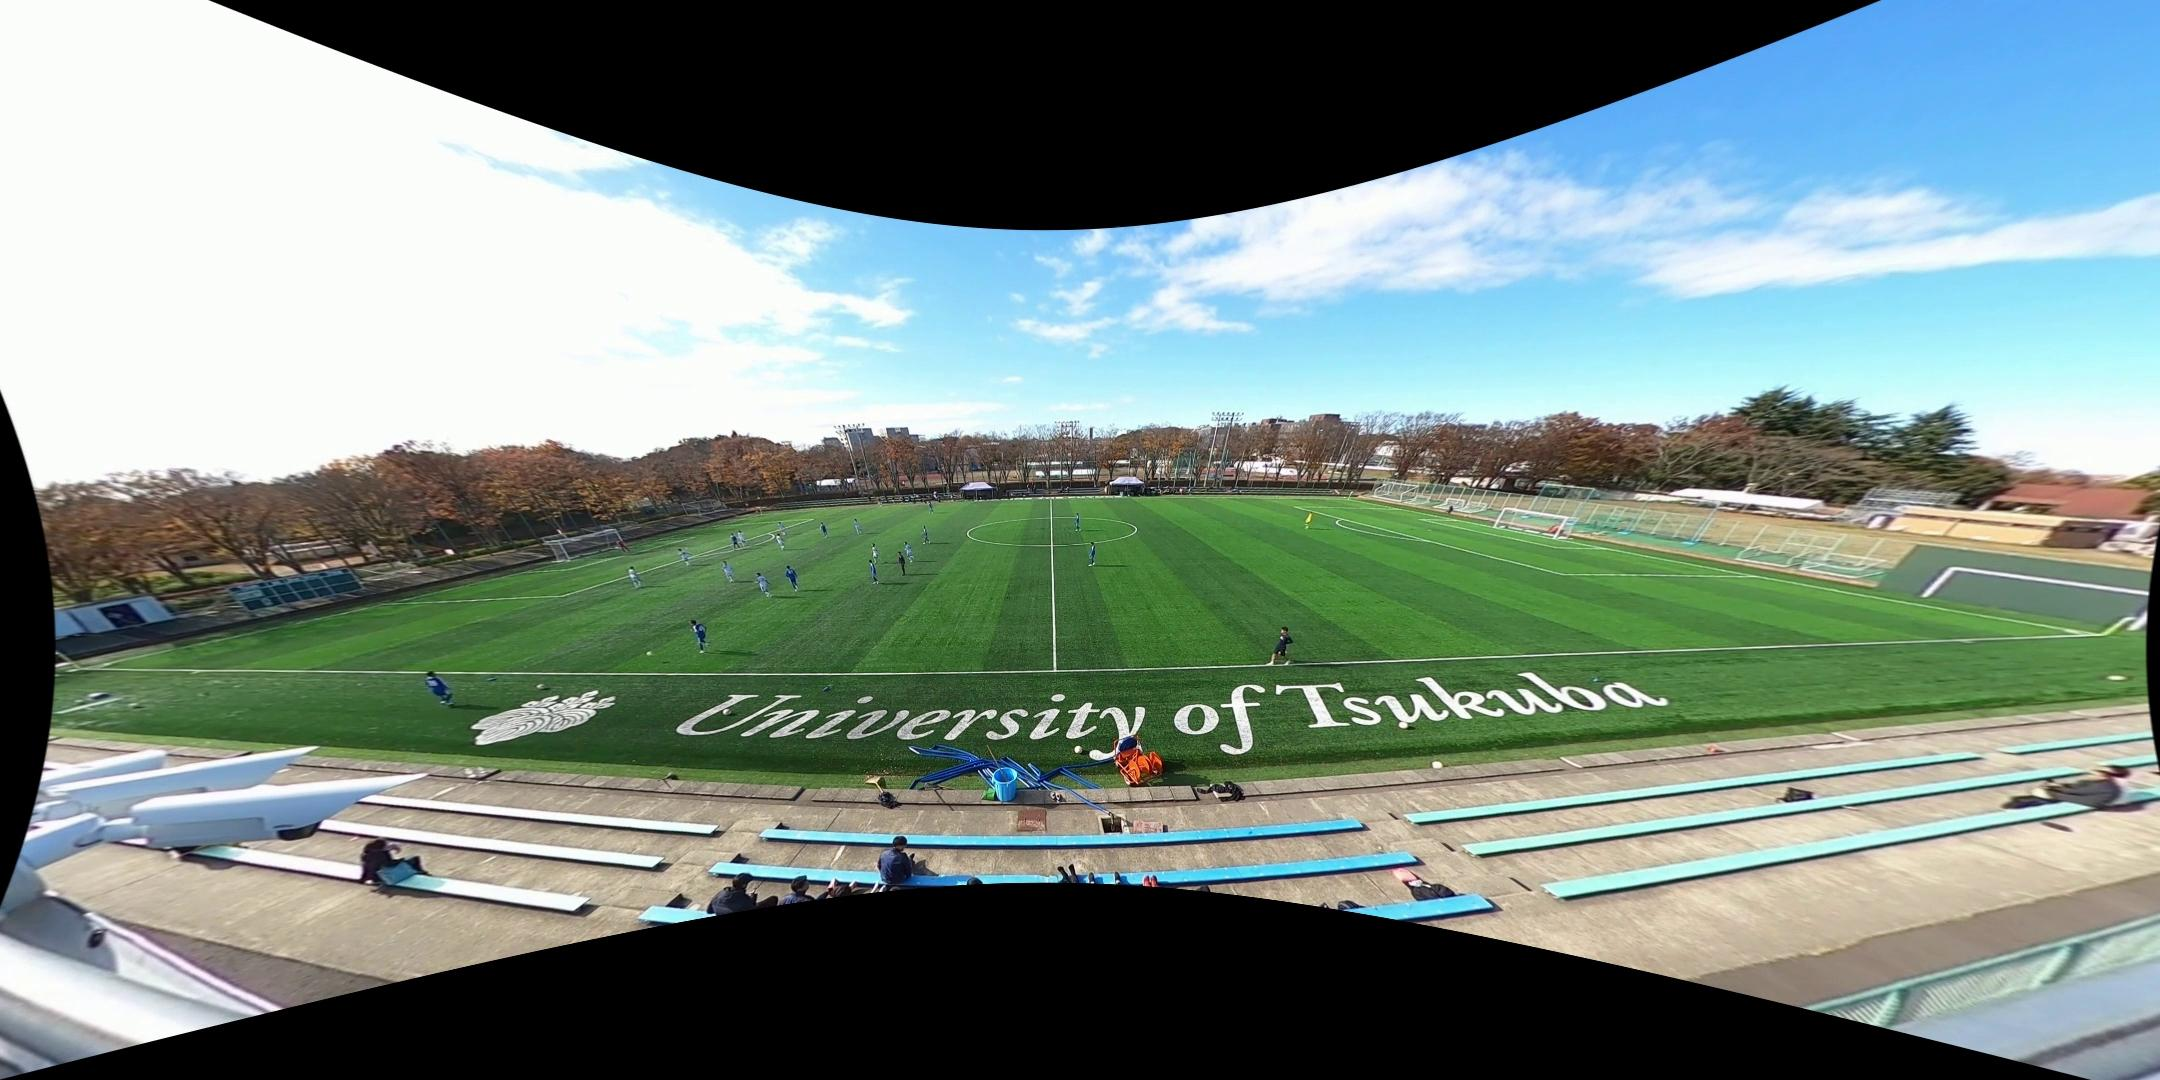person: (1266, 627, 1294, 666), (425, 671, 454, 705), (686, 620, 709, 653), (754, 573, 773, 597), (785, 565, 800, 592), (629, 566, 644, 588), (722, 561, 735, 583), (870, 542, 881, 565), (867, 561, 878, 584), (904, 541, 915, 563), (736, 529, 749, 547), (678, 549, 692, 565), (897, 551, 906, 575), (617, 539, 631, 554), (1088, 541, 1096, 567), (774, 534, 786, 551), (730, 532, 741, 549), (853, 518, 863, 535), (1304, 511, 1313, 529), (922, 525, 930, 544), (820, 523, 829, 538), (1074, 512, 1081, 531), (778, 522, 787, 534), (927, 500, 935, 513)
sports ball: (535, 680, 546, 692), (1431, 759, 1443, 770), (1073, 745, 1083, 755), (1399, 720, 1409, 729), (722, 707, 729, 715), (646, 649, 652, 656)
